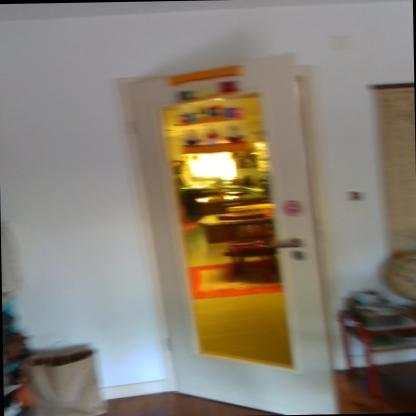closed: (116, 47, 342, 412)
